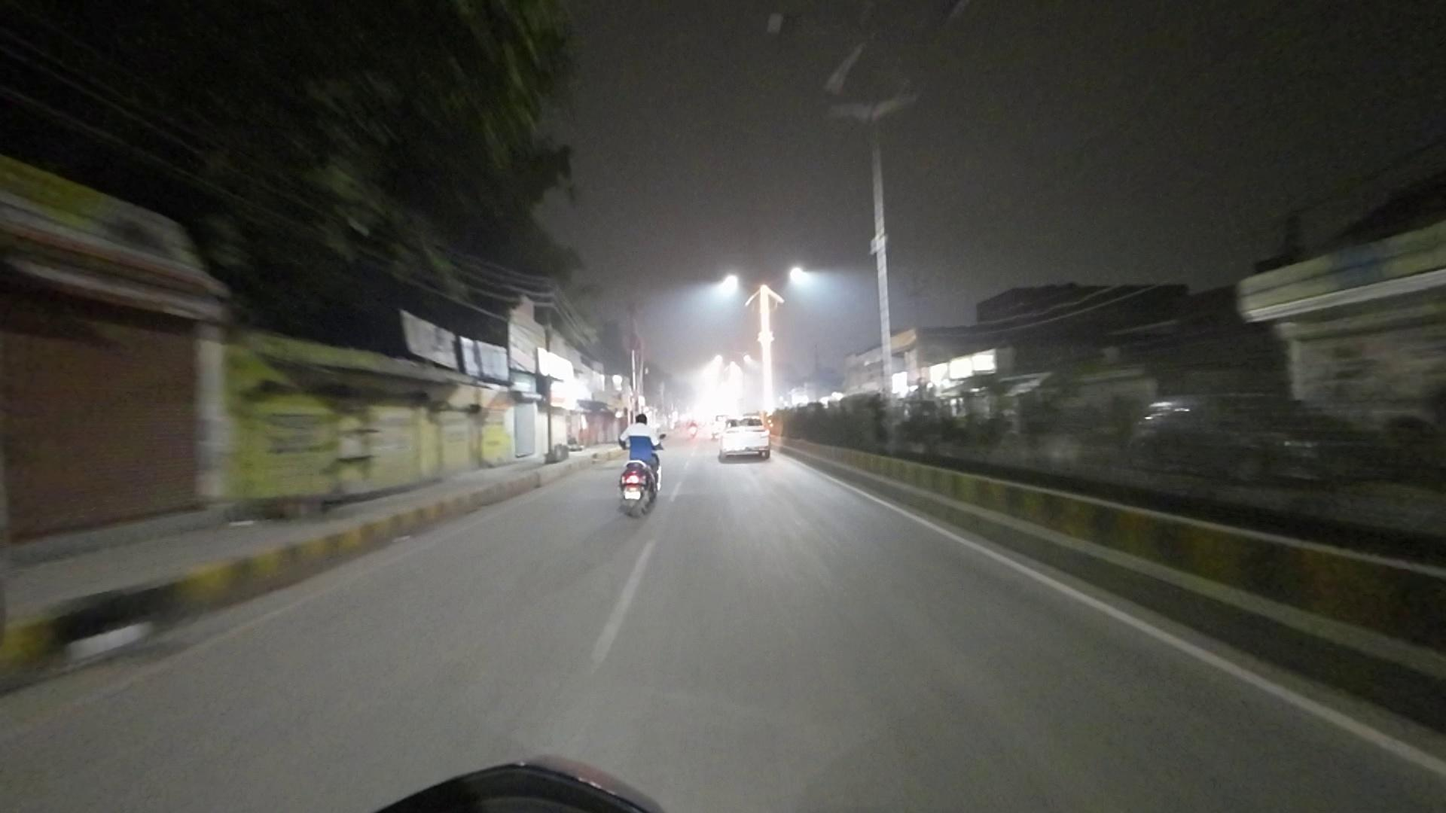streetlight: (759, 1, 852, 45)
